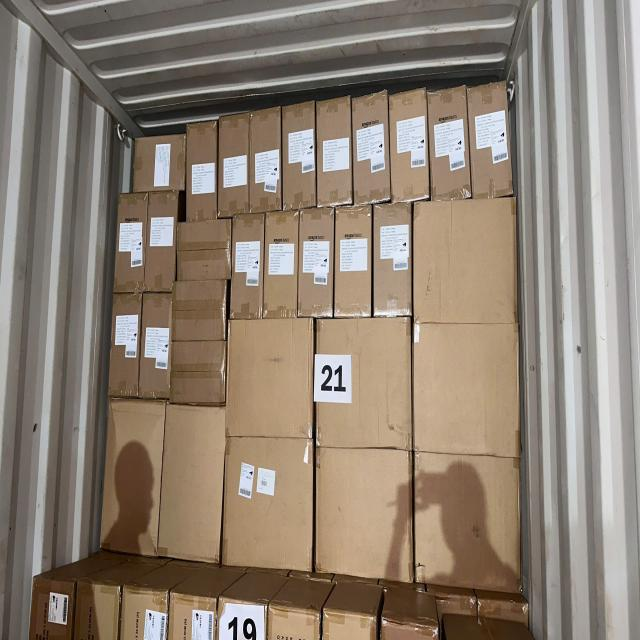Carton: (414, 452, 522, 594), (414, 325, 520, 455), (317, 447, 413, 583), (412, 201, 519, 323), (316, 318, 412, 452), (225, 436, 312, 572), (158, 402, 226, 564), (102, 399, 164, 556), (228, 318, 312, 433), (468, 84, 516, 196), (428, 86, 470, 198), (373, 203, 413, 319), (390, 91, 430, 200), (352, 97, 392, 203), (336, 205, 372, 319), (318, 96, 352, 210), (170, 340, 227, 404), (266, 213, 298, 319), (300, 211, 332, 317), (249, 110, 282, 212), (284, 104, 316, 209), (231, 215, 263, 320), (177, 222, 232, 281), (142, 293, 172, 399), (186, 124, 218, 222), (173, 284, 227, 338), (220, 115, 248, 218), (134, 136, 186, 190), (111, 294, 139, 392), (118, 195, 144, 292), (148, 194, 174, 290)
